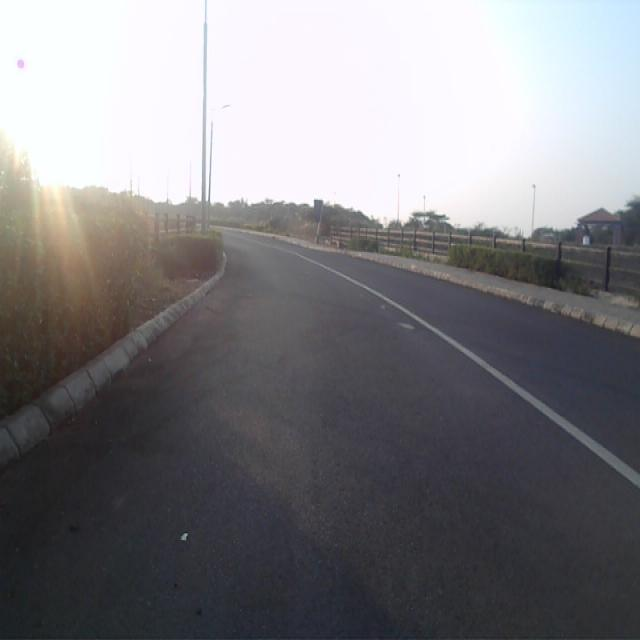lane: (0, 243, 640, 640)
